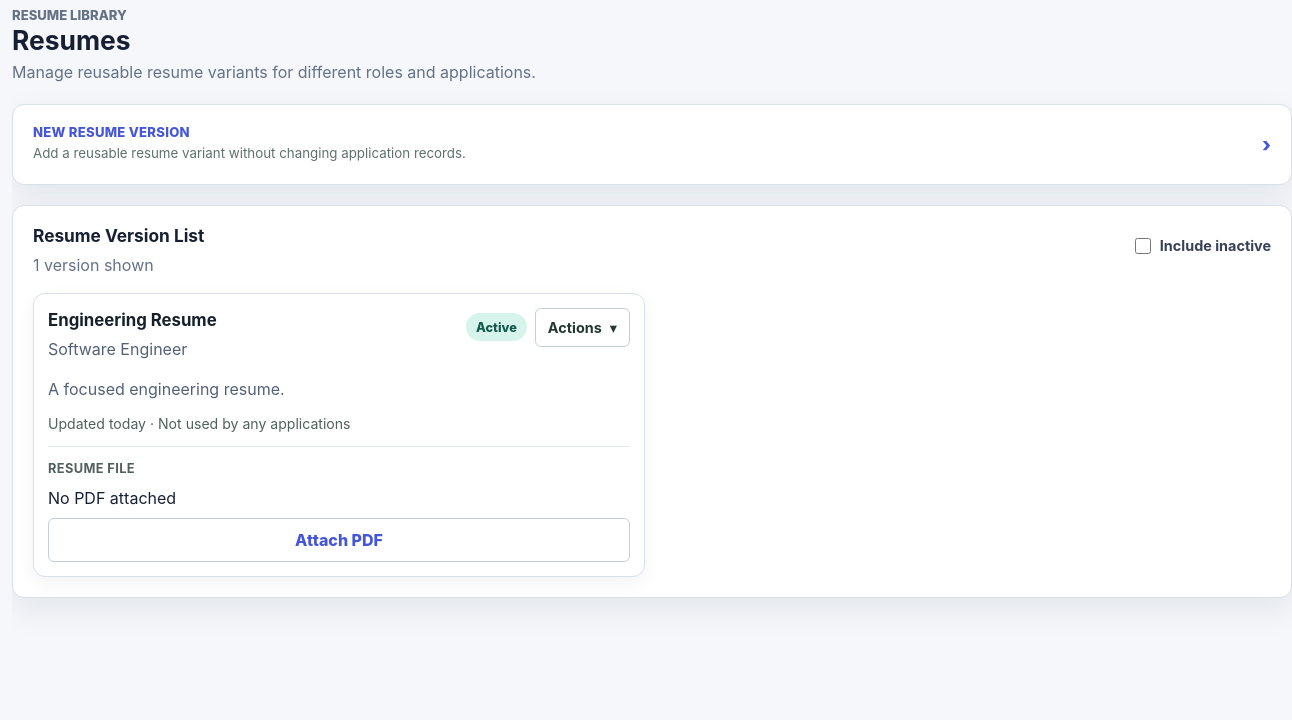
Test case: ResumeVersionsPage library experience › keeps a just-deactivated resume visible only while inactive versions are included
Click the checkbox labelled "Include inactive". click: (1143, 246)
box: [1135, 238, 1151, 254]
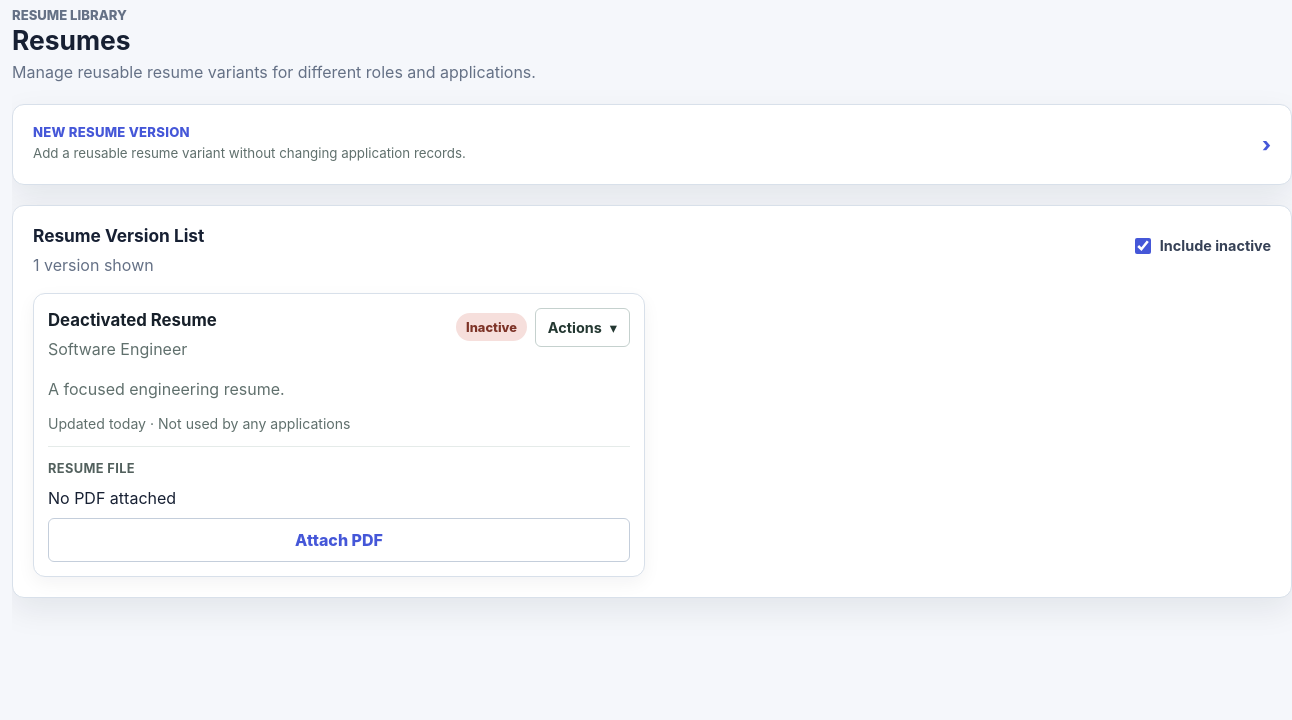
Expected: the text "inactive" is shown, [1160, 237, 1271, 254]
Expected: the text "Deactivated Resume" is shown, [48, 308, 217, 333]
Click the checkbox labelled "Include inactive". click: (1143, 246)
box: [1135, 238, 1151, 254]
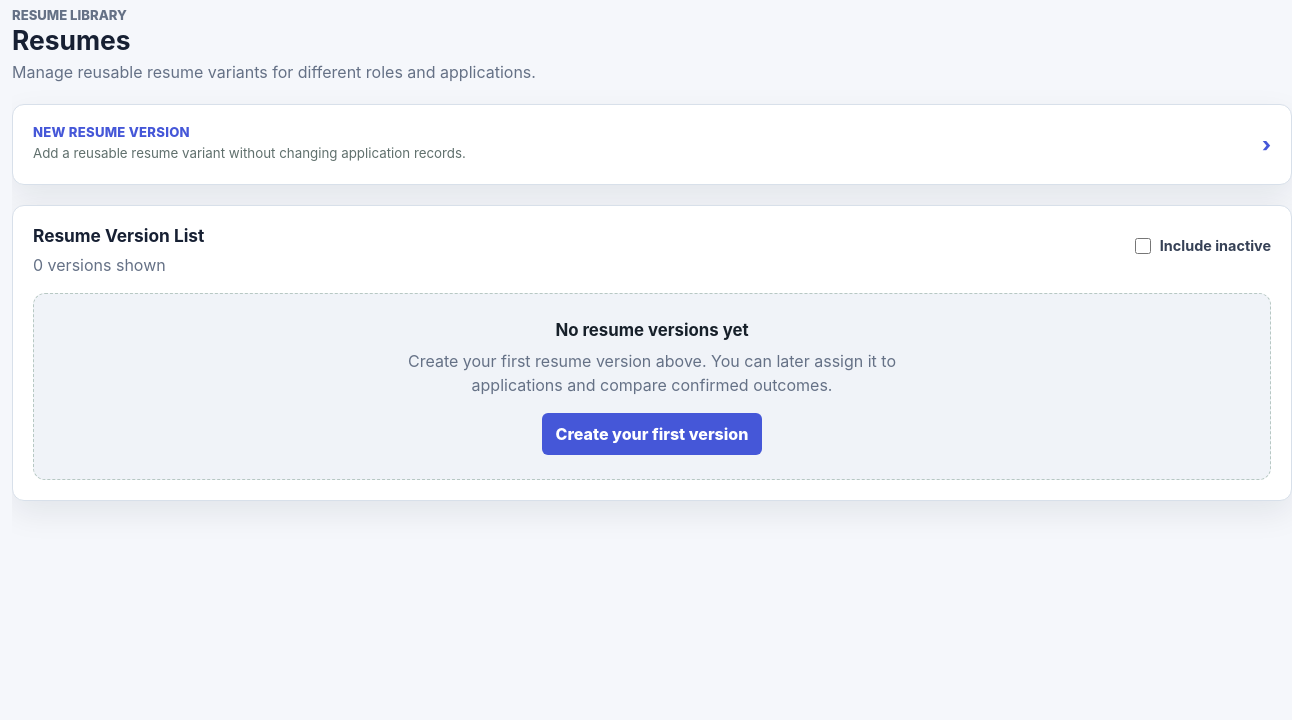
Expected: the text "No resume versions yet" is shown, [555, 320, 749, 340]
Expected: the text "Deactivated Resume" is gone
